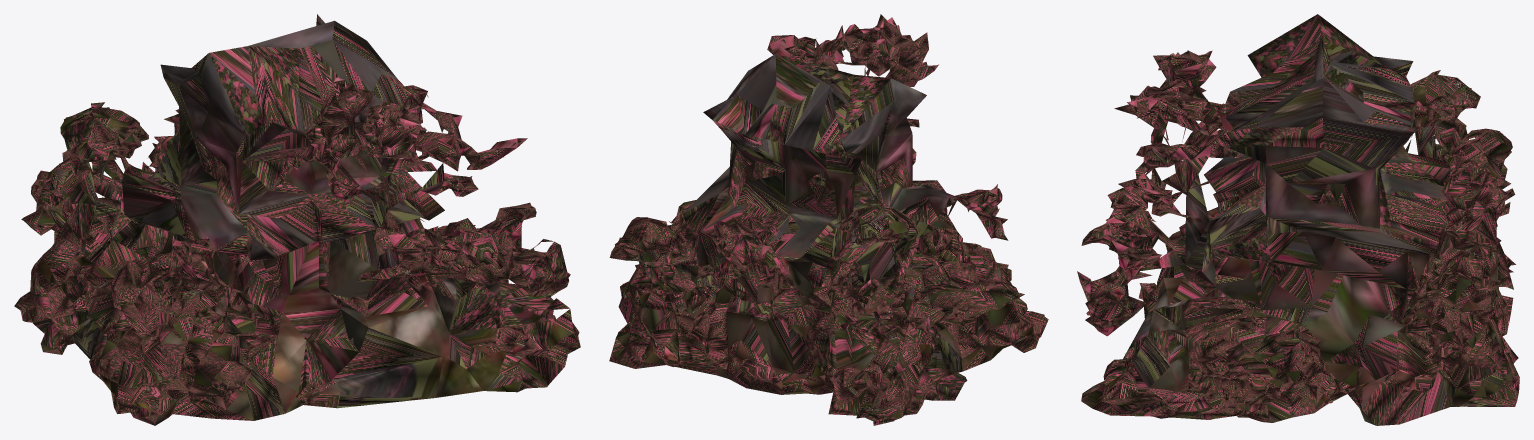
File: lib_mtn_house.lod1.glb
3 renders of one model, left to right at view 1: azimuth 30°, elevation 25°; view 2: azimuth 150°, elevation 25°; view 3: azimuth 270°, elevation 25°, orthographic. The views are drawn at different scales.
Parts seen in each view (by area): view 1: output_unwrapped; view 2: output_unwrapped; view 3: output_unwrapped.
Boxes of the visible parts, <box> form: output_unwrapped: <box>14,14,580,425</box>; output_unwrapped: <box>609,14,1048,425</box>; output_unwrapped: <box>1077,14,1519,425</box>.
Bounding box in the file's own units: 1.99 × 1.46 × 1.98.
1 material, 1 textured.
